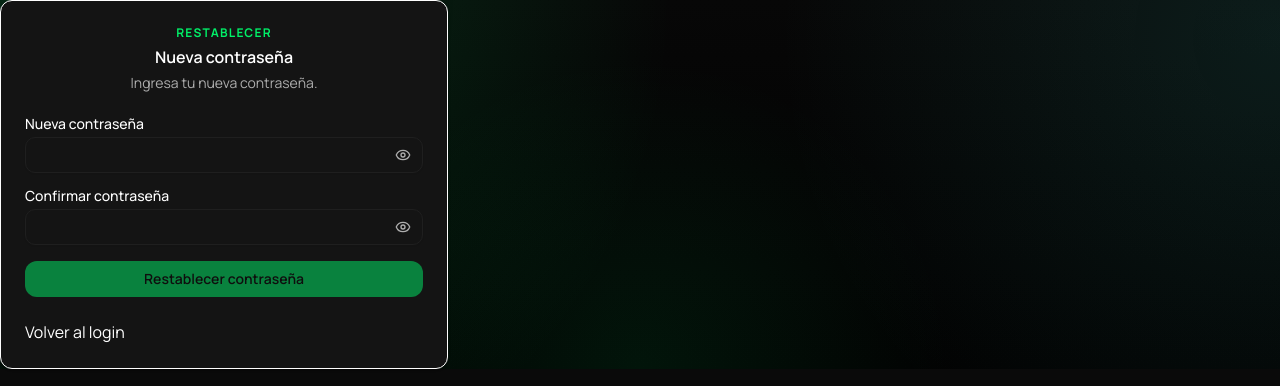
Test: ResetPasswordPage › shows success state after password reset
Type "newpassword123" into the password field labelled "Nueva contraseña" at [224, 155], box 25,137 -> 423,173
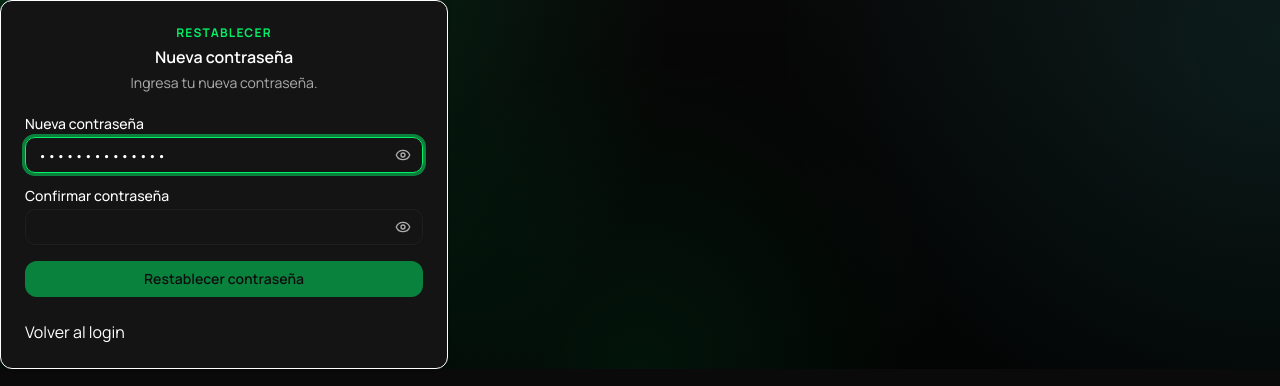
Type "newpassword123" into the password field labelled "Confirmar contraseña" at [224, 227], box 25,209 -> 423,245
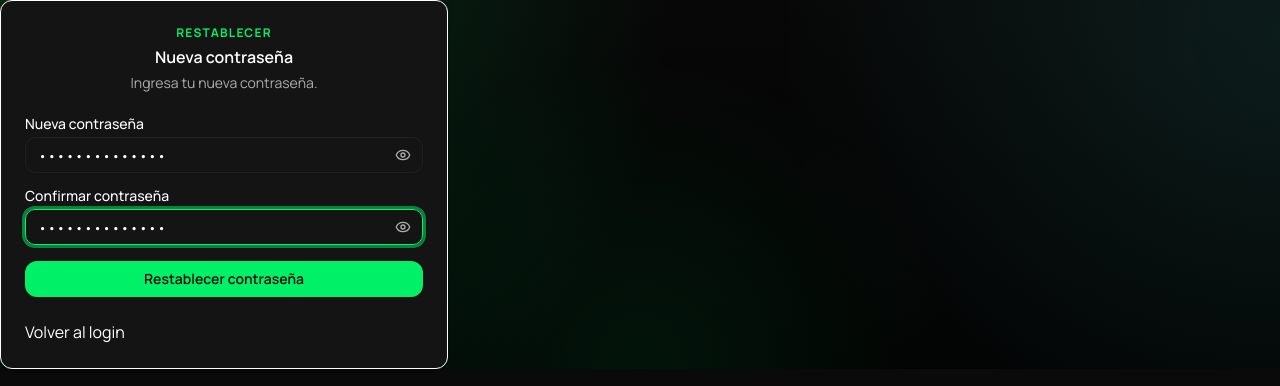
Click the button "Restablecer contraseña" at [224, 279], box 25,261 -> 423,297
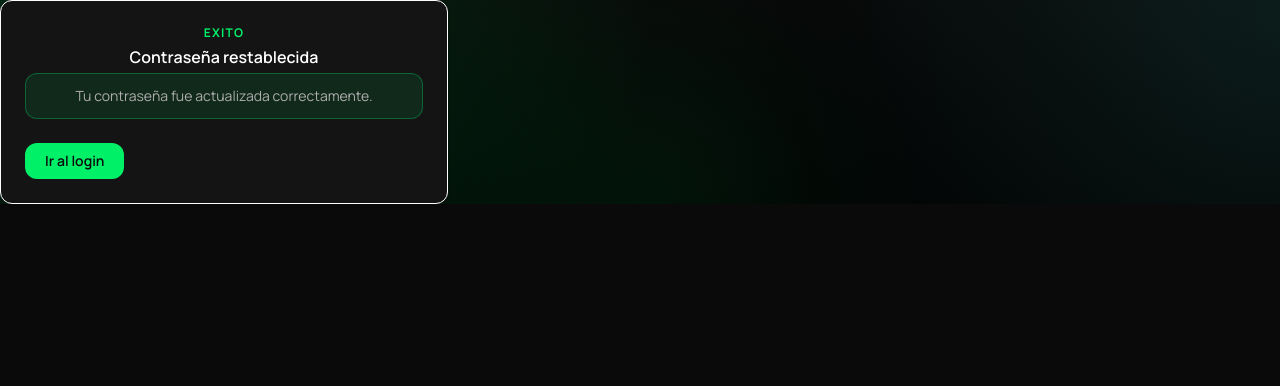
Result: the text "Contraseña restablecida" is shown at 130,46 -> 318,68
Result: the text "Tu contraseña fue actualizada correctamente." is shown at 25,73 -> 423,119
Result: the button "Ir al login" is shown at 25,143 -> 124,179
